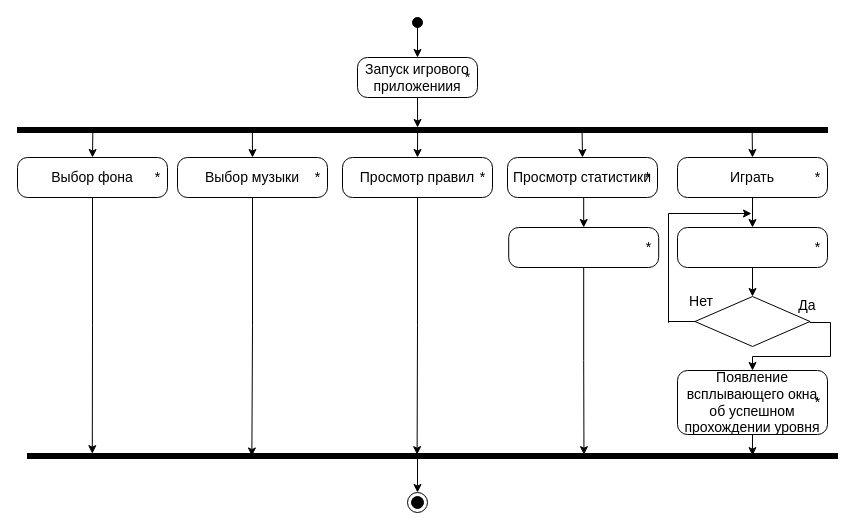
The diagram is 856 pixels wide and 530 high, and some of its shapes have lost their labels. Each missing label, with the box of its shape:
Все пары найдены?: (694, 296, 810, 346)
Выбор уровня для просмотра статистики: (508, 226, 659, 268)
Найти пару одинаковых карточек: (676, 226, 828, 268)
